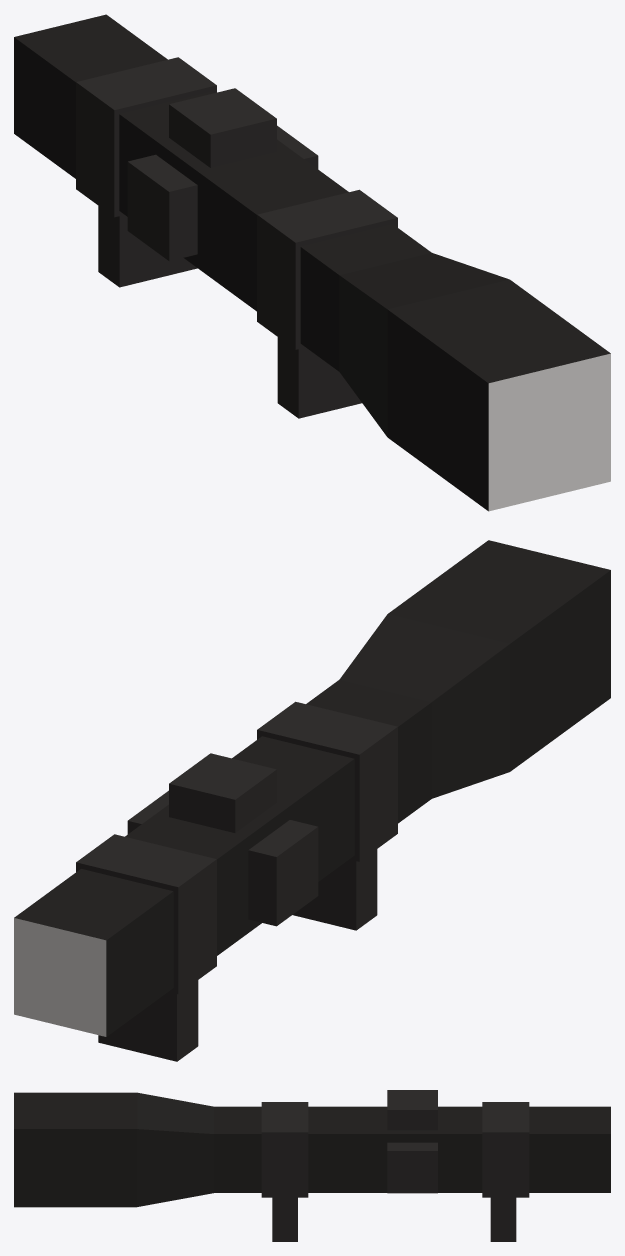
File: Scope.FBX
3 views of the same model, one above another, from view 1: azimuth 30°, elevation 25°; view 2: azimuth 150°, elevation 25°; view 3: azimuth 270°, elevation 25° (orthographic). The views are drawn at different scales.
Visible parts, largest first — view 1: RifleScope1; view 2: RifleScope1; view 3: RifleScope1.
Boxes of the visible parts, x1,y1,x2,y2 form: RifleScope1: (14,14,610,511); RifleScope1: (14,540,610,1061); RifleScope1: (14,1090,610,1241).
Size of the model in its own units: 11.4 by 64.84 by 15.59.
